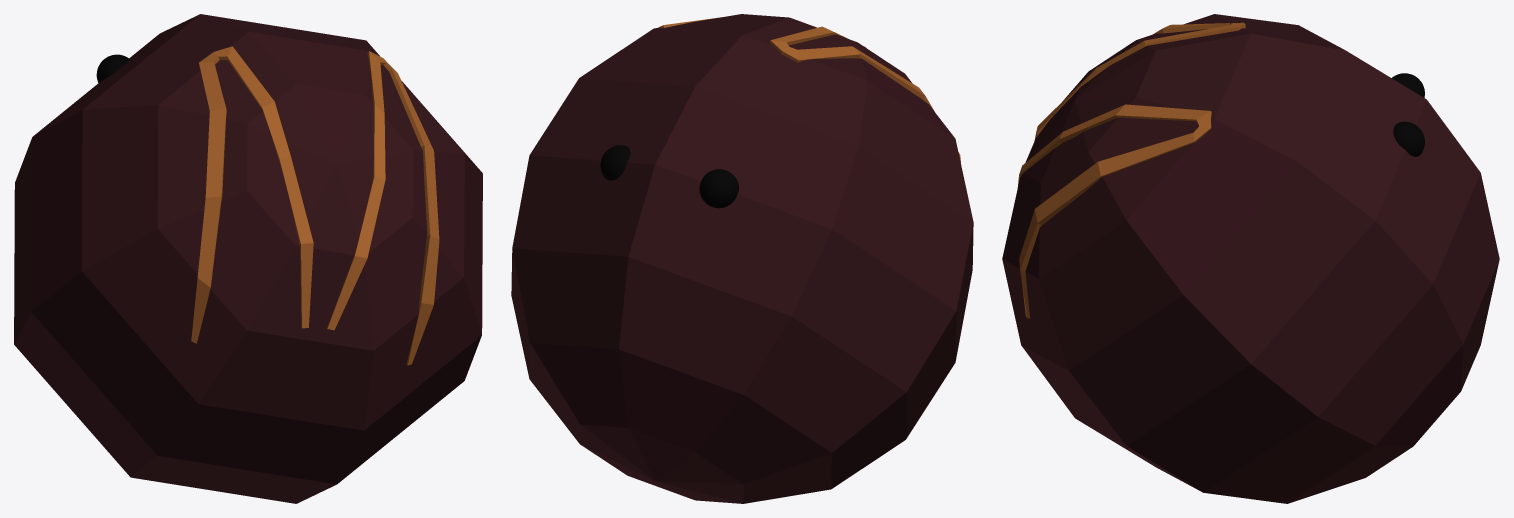
The model's file is BonBonRolling.fbx.
3 views of the same model, side by side, from view 1: azimuth 30°, elevation 25°; view 2: azimuth 150°, elevation 25°; view 3: azimuth 270°, elevation 25° (orthographic).
Parts seen in each view (by area): view 1: truffleChocolate; view 2: truffleChocolate; view 3: truffleChocolate.
Part boxes in pixels (x1,y1,x2,y2): truffleChocolate: (14,14,482,503); truffleChocolate: (511,14,973,503); truffleChocolate: (1002,14,1499,503).
Size of the model in its own units: 200 by 200 by 200.
